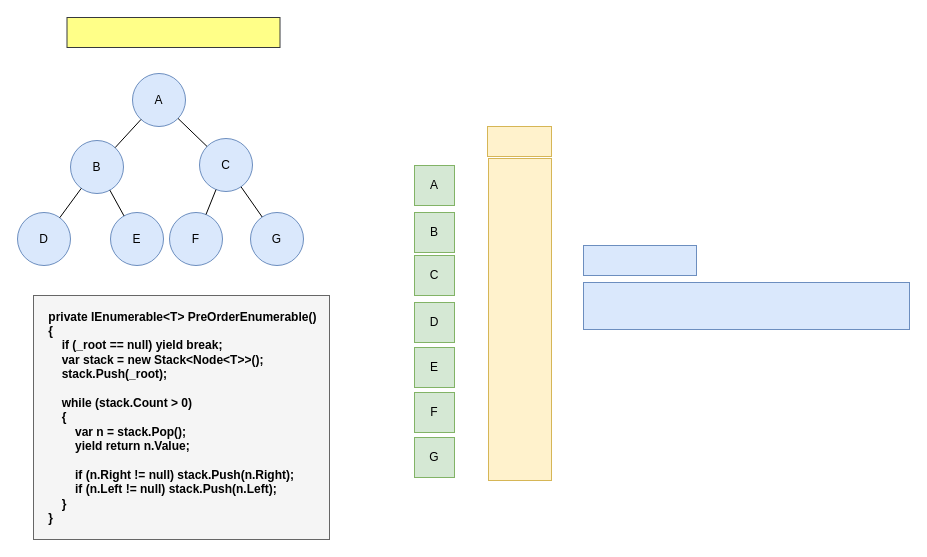
Some shapes in this 927 by 557 pixel diagram are drawn without their labels. Each missing label, with the centre of its shape:
IEnumerable<>: point 639,260
ROOT - VENSTRE - HØYRE: point 173,32
Stack: point 519,141
